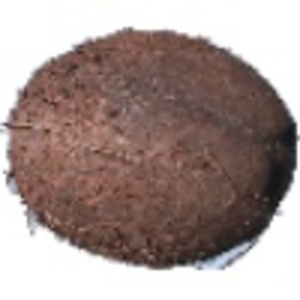coco: (1, 29, 300, 271)
